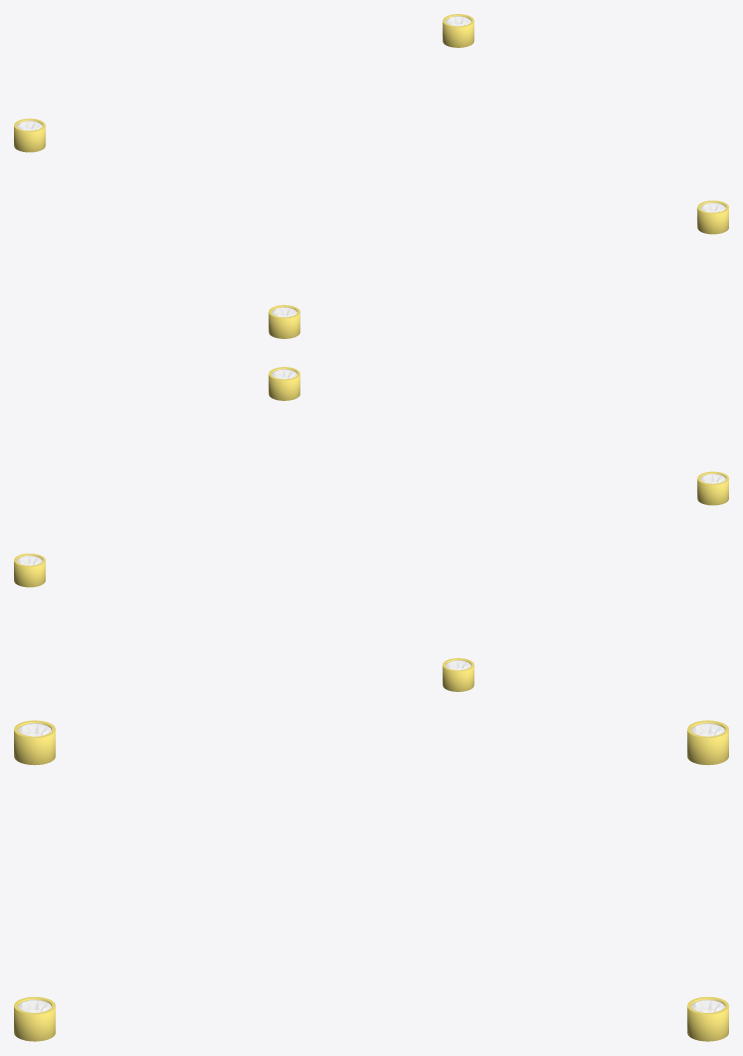
Rendered from watch_studs.glb.
3 renders of one model, top to bottom at view 1: azimuth 30°, elevation 25°; view 2: azimuth 150°, elevation 25°; view 3: azimuth 270°, elevation 25°, orthographic. The views are drawn at different scales.
Parts seen in each view (by area): view 1: setting, setting.003, setting.001, setting.002; view 2: setting.002, setting.001, setting.003, setting; view 3: setting.002, setting, setting.001, setting.003.
Boxes of the visible parts, bbox=[...] form: setting: bbox=[442, 14, 474, 47]; setting.003: bbox=[268, 305, 300, 338]; setting.001: bbox=[14, 118, 45, 152]; setting.002: bbox=[697, 200, 728, 234]; setting.002: bbox=[268, 367, 300, 400]; setting.001: bbox=[442, 658, 474, 691]; setting.003: bbox=[697, 471, 728, 505]; setting: bbox=[14, 553, 45, 587]; setting.002: bbox=[14, 996, 55, 1041]; setting: bbox=[687, 996, 728, 1041]; setting.001: bbox=[687, 720, 728, 765]; setting.003: bbox=[14, 720, 55, 765].
Size of the model in its own units: 1.42 by 0.063 by 1.46.
